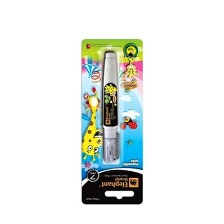book: (78, 35, 147, 207)
correction_fluid: (100, 50, 122, 165)
